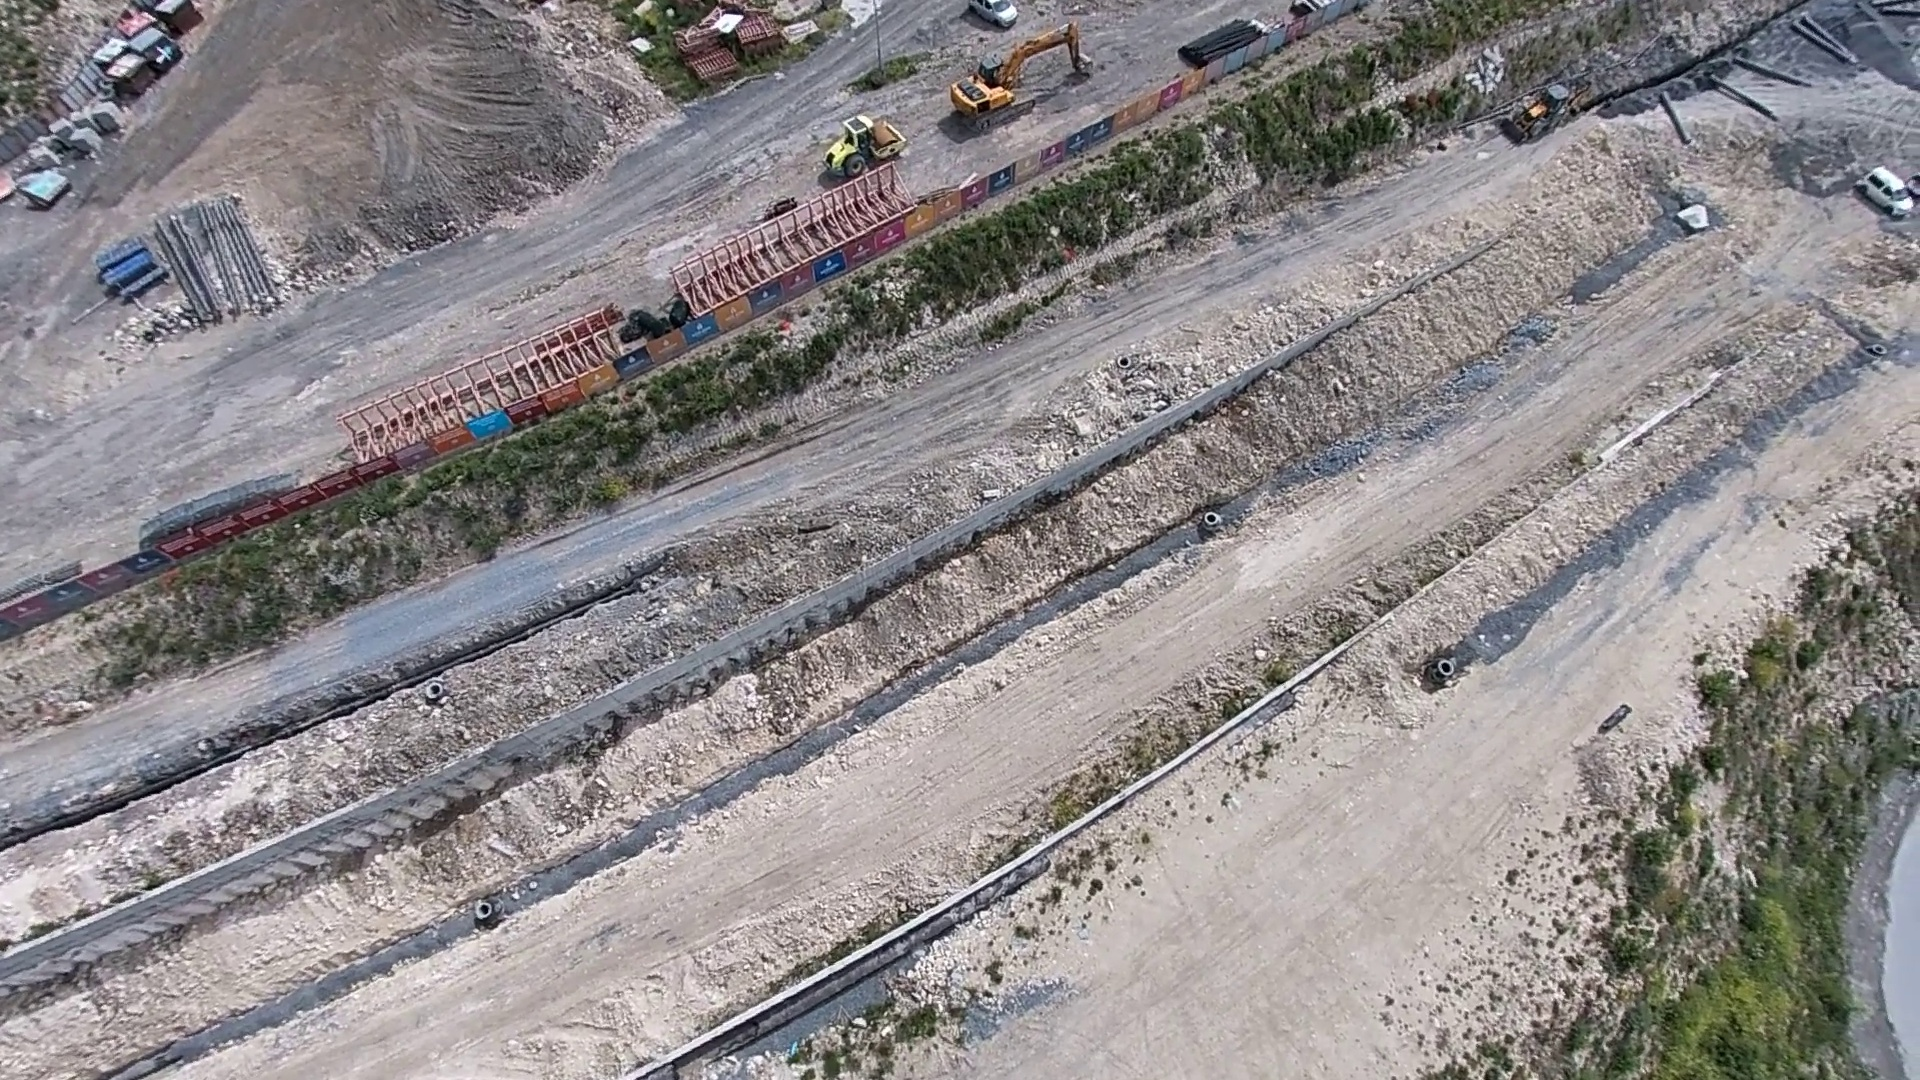araba: (1858, 160, 1920, 220), (960, 3, 1036, 26)
ismakinesi: (940, 18, 1101, 137)
traktor: (818, 109, 907, 179), (1502, 79, 1581, 145)
